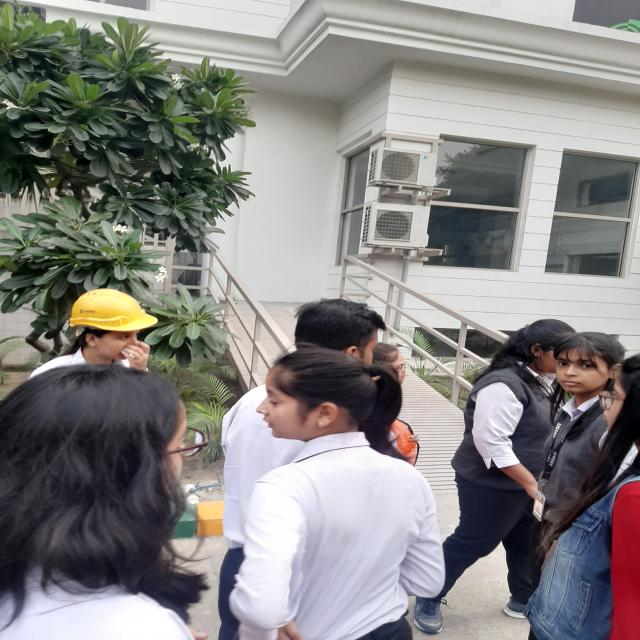no jacket: (42, 284, 150, 369)
unsafe: (258, 356, 448, 640), (419, 322, 581, 620), (542, 326, 617, 570)
